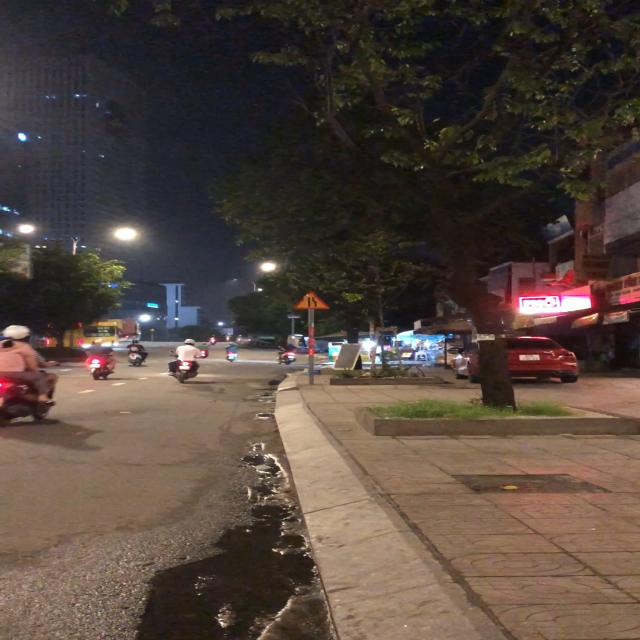Bien bao duong bi thu hep: (291, 290, 332, 311)
